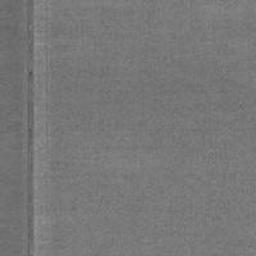Welding line: (24, 0, 36, 256)
